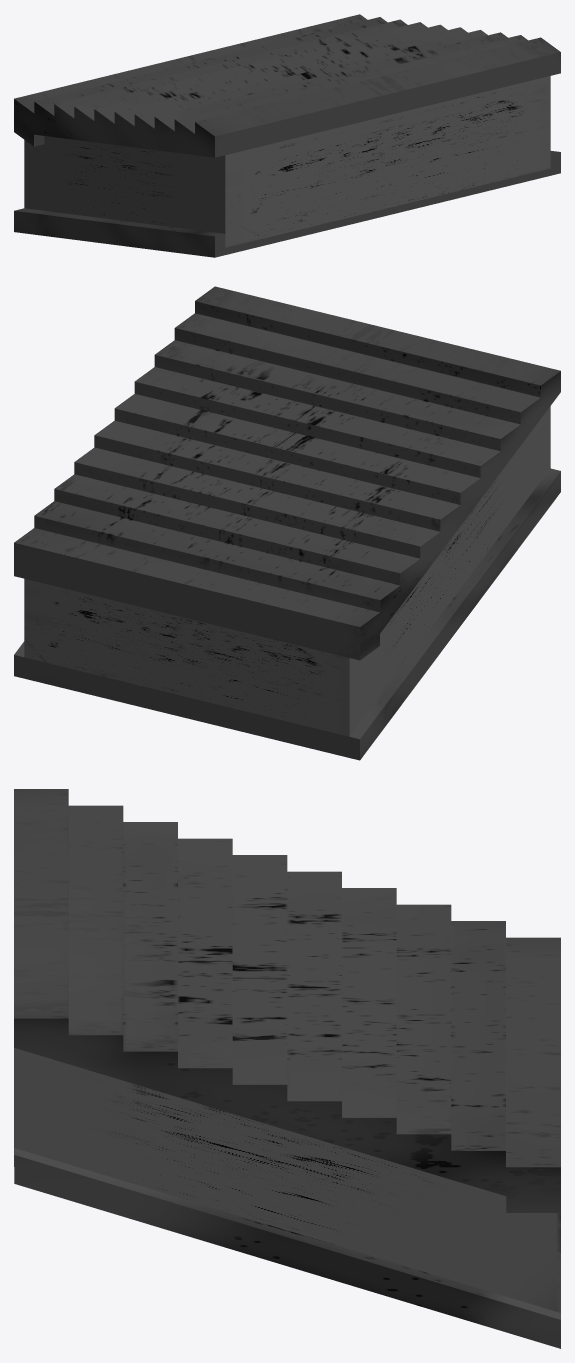
Rendered from Platform_3x3_Stair_V1.fbx.
3 renders of one model, top to bottom at view 1: azimuth 30°, elevation 25°; view 2: azimuth 150°, elevation 25°; view 3: azimuth 270°, elevation 25°, orthographic. The views are drawn at different scales.
Parts seen in each view (by area): view 1: Platform 3x3 Stair V1; view 2: Platform 3x3 Stair V1; view 3: Platform 3x3 Stair V1.
Part boxes in pixels (x1,y1,x2,y2): Platform 3x3 Stair V1: [14, 14, 560, 257]; Platform 3x3 Stair V1: [14, 286, 560, 760]; Platform 3x3 Stair V1: [14, 789, 560, 1348].
Size of the model in its own units: 298 by 200 by 300.
